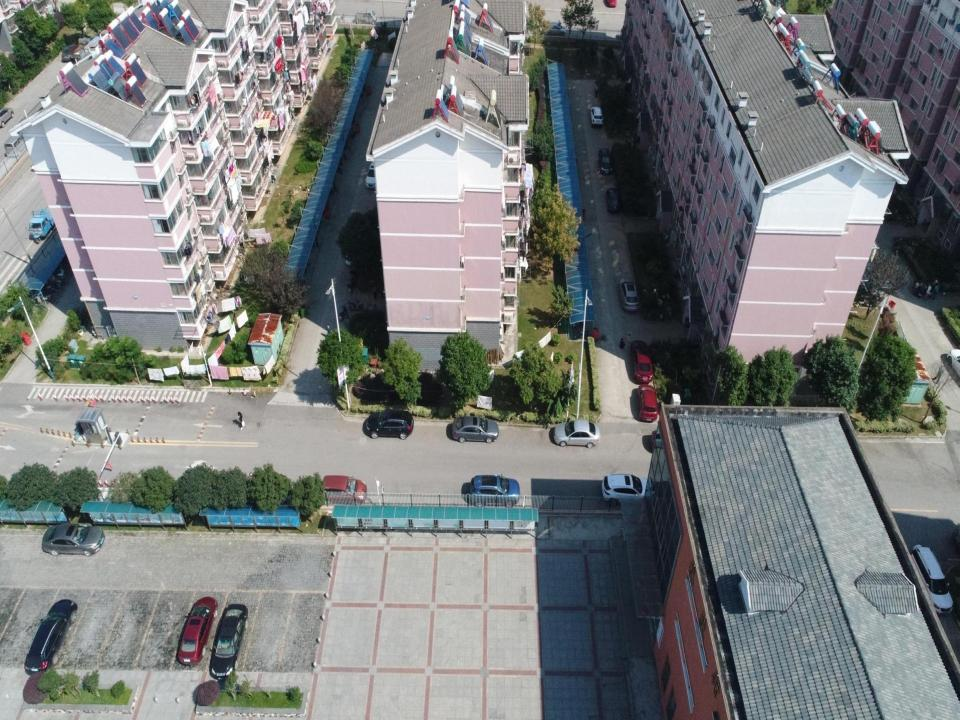car: (24, 598, 78, 678), (911, 542, 954, 616), (176, 596, 219, 666), (209, 603, 247, 682), (41, 521, 105, 556), (468, 474, 520, 508), (364, 408, 414, 440), (320, 474, 367, 506), (450, 415, 500, 443), (553, 419, 601, 448), (601, 474, 650, 502), (629, 338, 654, 386), (636, 382, 659, 424), (618, 278, 641, 312), (365, 158, 382, 188), (598, 146, 613, 176), (605, 186, 620, 215), (589, 104, 604, 127)
van: (650, 428, 676, 447)
